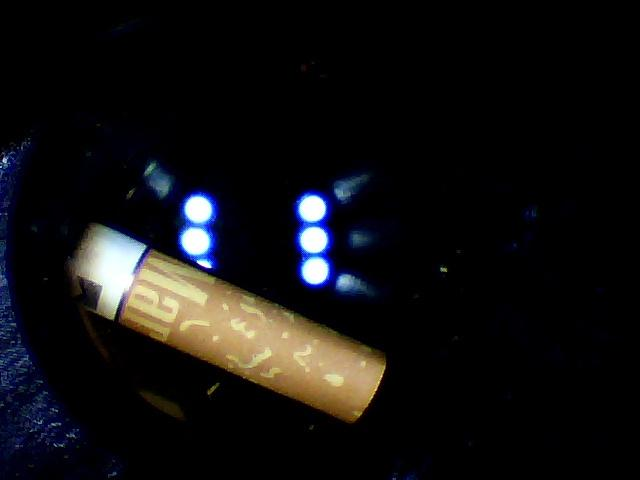megot: (45, 215, 397, 428)
